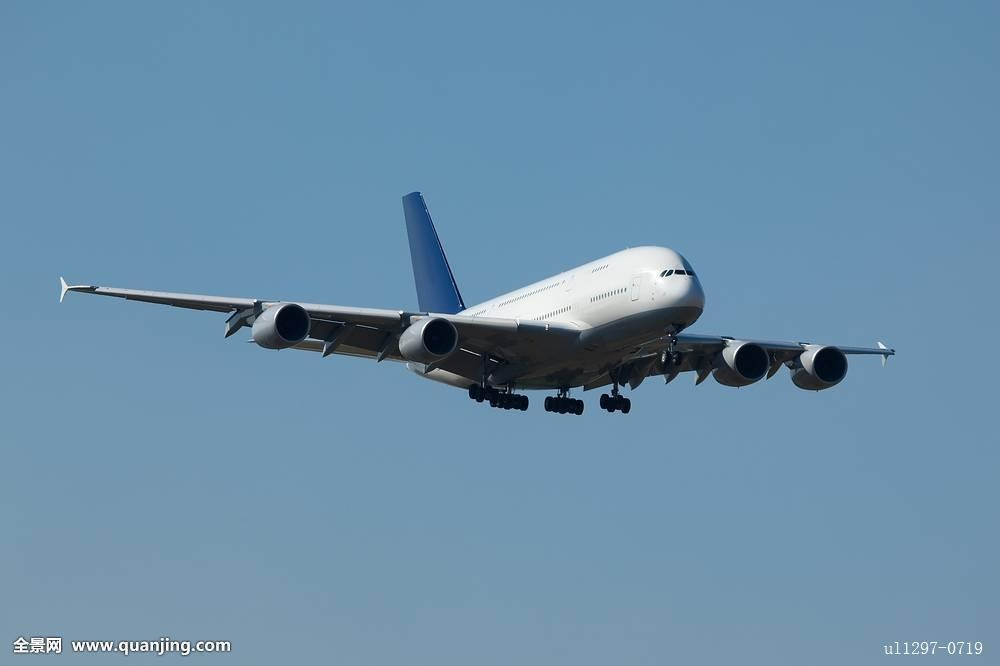airplane: (38, 186, 910, 428)
